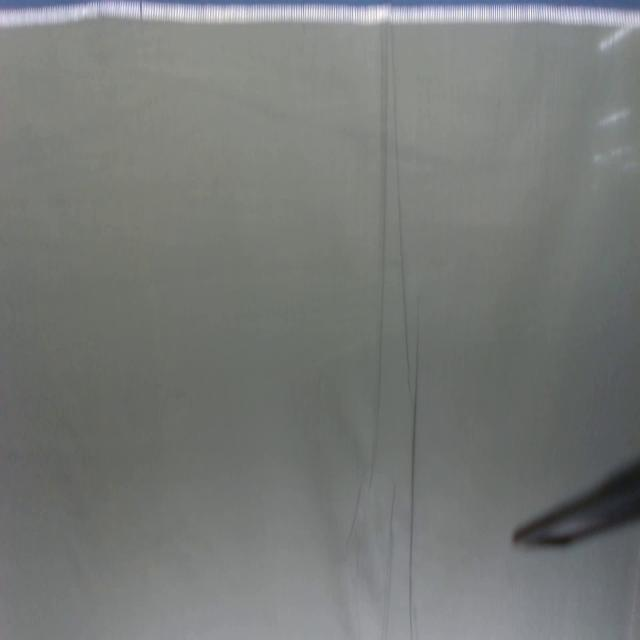crease: (346, 19, 389, 553), (390, 24, 422, 639), (381, 484, 398, 640)
